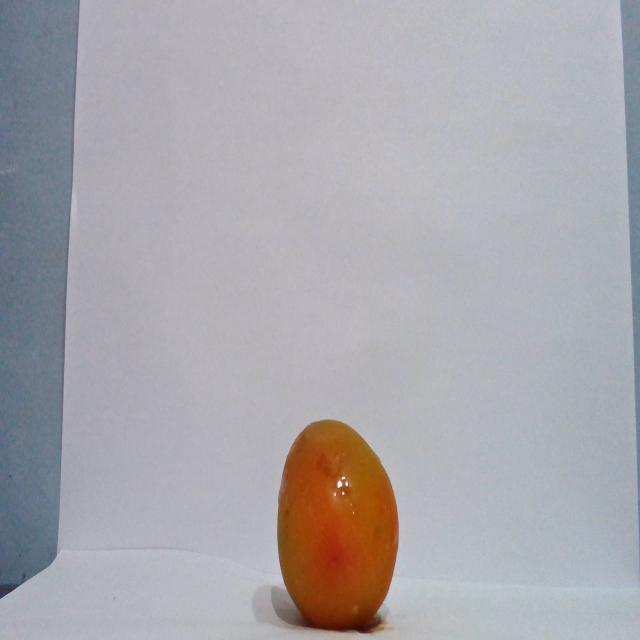Red: (275, 417, 399, 630)
